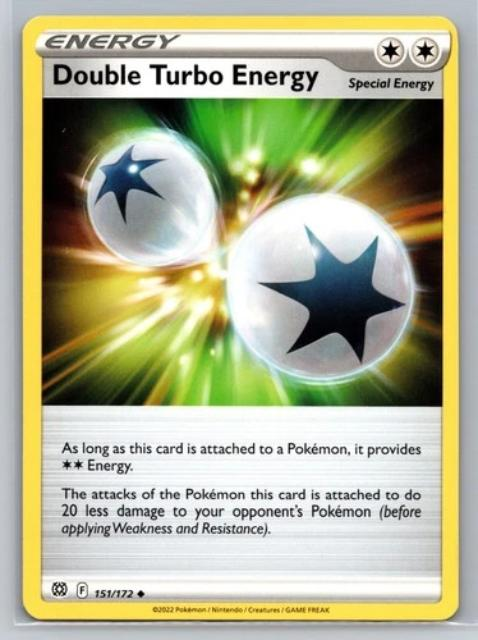Card: (17, 9, 465, 626)
Name: (48, 57, 328, 98)
